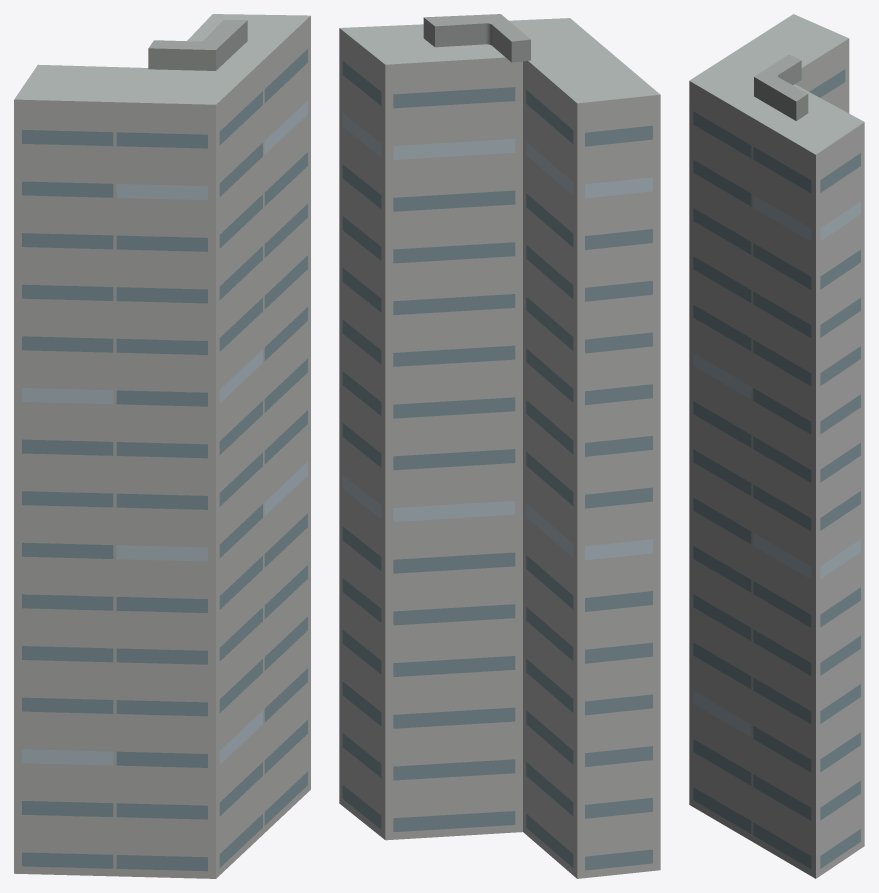
Rendered from fallback-jamsil-ricenz-245.glb.
3 views of the same model, side by side, from view 1: azimuth 30°, elevation 25°; view 2: azimuth 150°, elevation 25°; view 3: azimuth 270°, elevation 25° (orthographic). The views are drawn at different scales.
Parts seen in each view (by area): view 1: fallback-jamsil-ricenz-245; view 2: fallback-jamsil-ricenz-245; view 3: fallback-jamsil-ricenz-245.
Part boxes in pixels (x1,y1,x2,y2): fallback-jamsil-ricenz-245: (14, 14, 310, 878); fallback-jamsil-ricenz-245: (339, 14, 660, 878); fallback-jamsil-ricenz-245: (689, 14, 864, 878).
Size of the model in its own units: 36.97 by 91 by 19.47.
